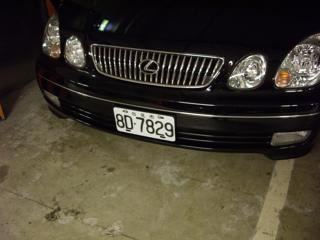plate: (111, 106, 175, 145)
